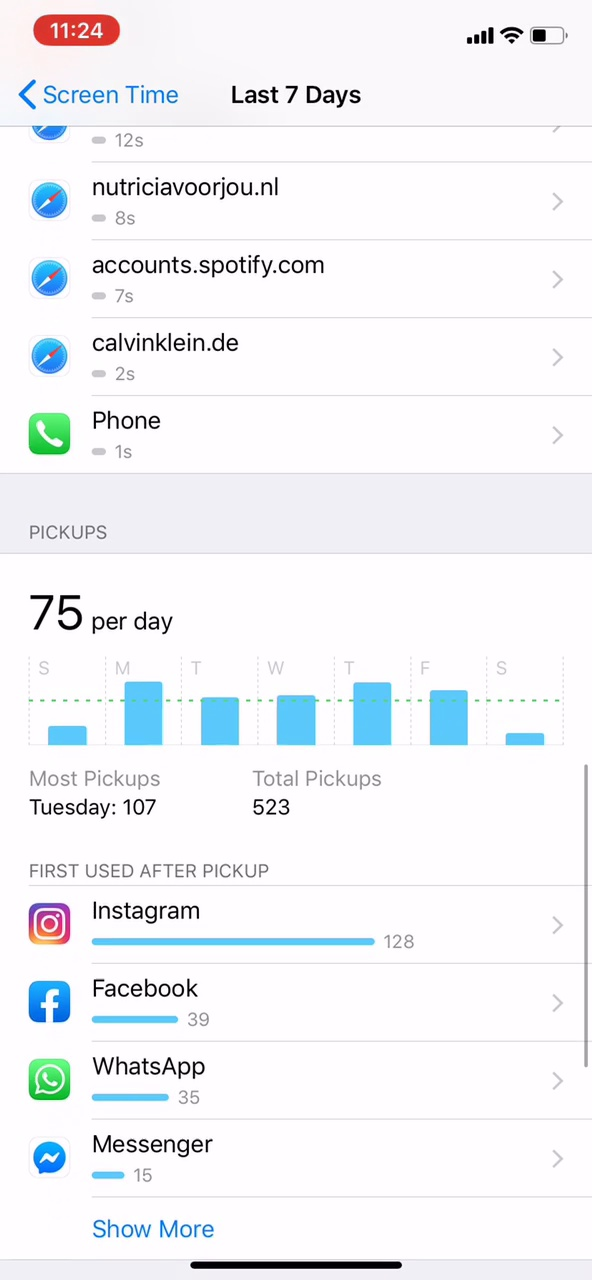pick_app: (22, 885, 447, 966), (18, 1122, 247, 1196), (17, 1046, 231, 1114), (18, 972, 237, 1038)
pick_over: (20, 761, 395, 832)
week: (221, 75, 374, 114)
